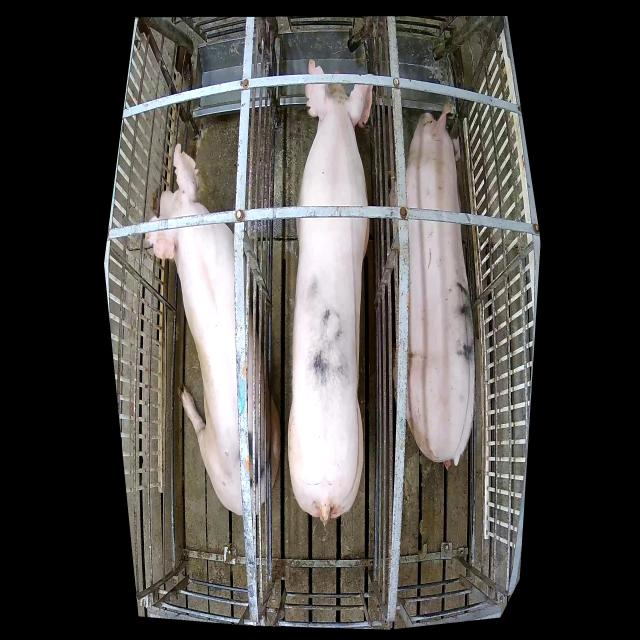pig: (145, 143, 281, 515), (287, 56, 373, 529), (389, 106, 475, 470)
